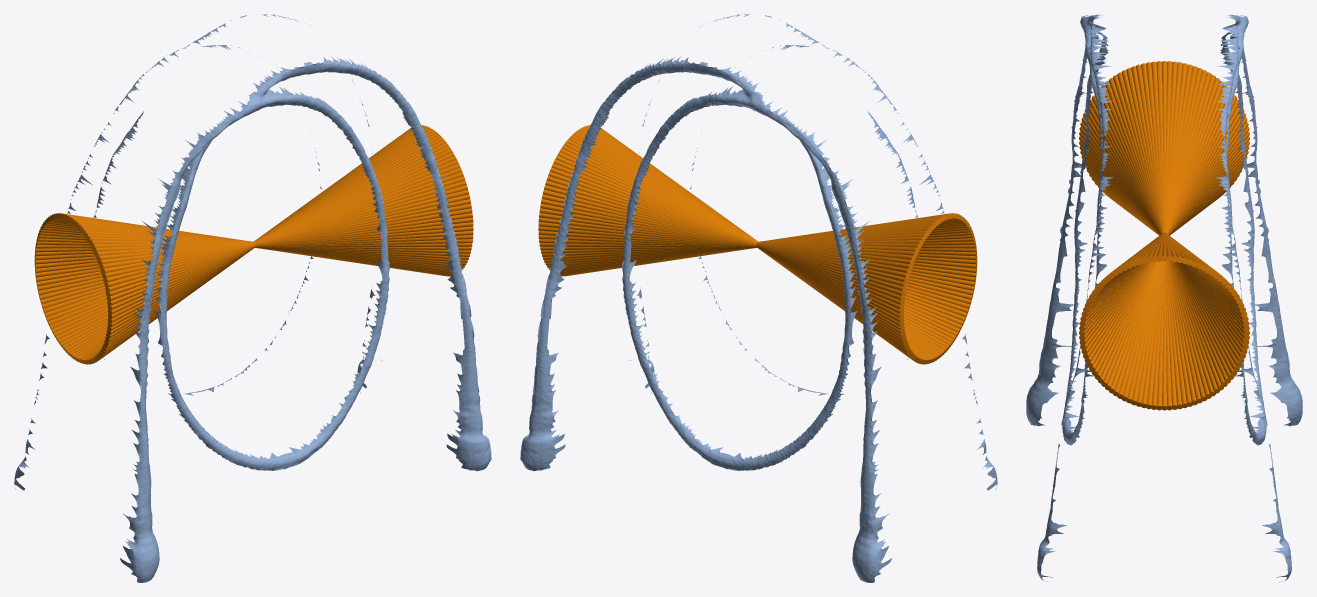
Rendered from A60024610_6150-37-520-2143_DigitalTwin.glb.
3 renders of one model, left to right at view 1: azimuth 30°, elevation 25°; view 2: azimuth 150°, elevation 25°; view 3: azimuth 270°, elevation 25°, orthographic. The views are drawn at different scales.
Visible parts, largest first — view 1: world; view 2: world; view 3: world.
Part boxes in pixels (bbox=[...]): world: bbox=[14, 14, 491, 582]; world: bbox=[520, 14, 997, 582]; world: bbox=[1026, 14, 1302, 582].
Size of the model in its own units: 293 by 347 by 174.
